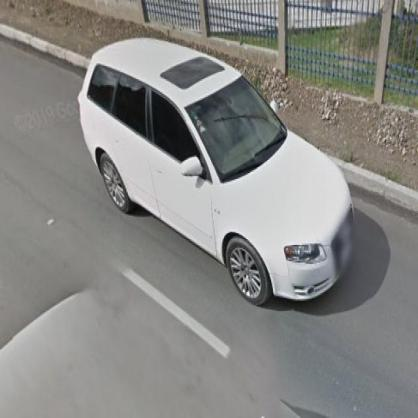car: (78, 36, 357, 310)
